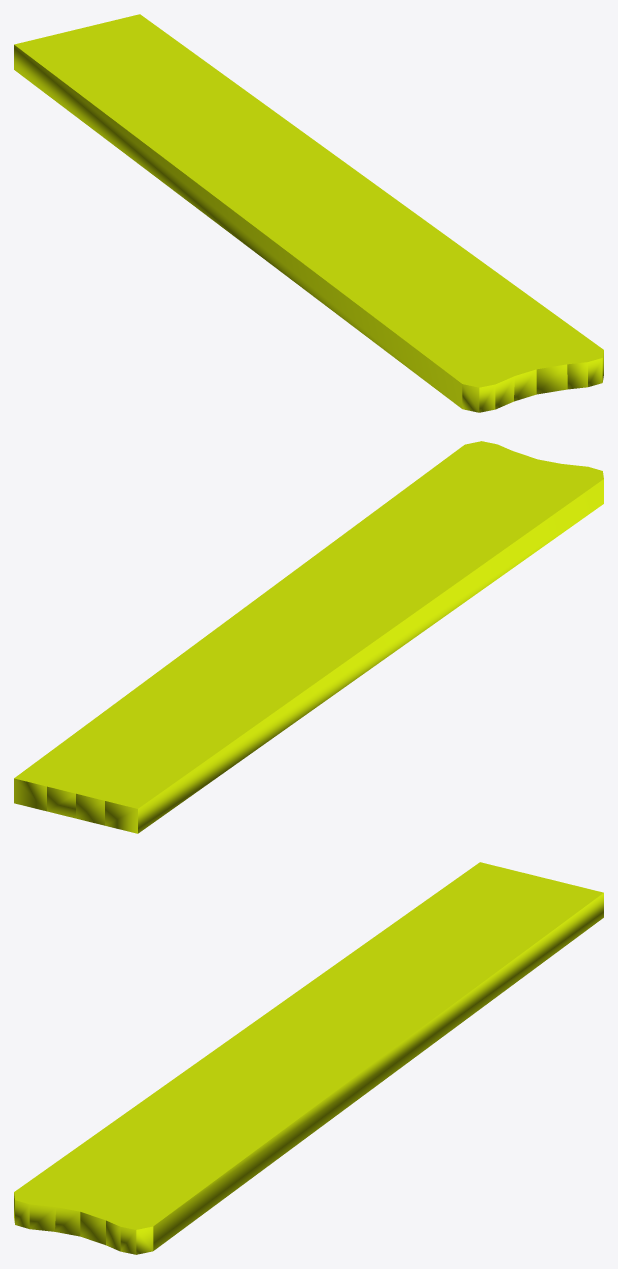
File: Inlane_A.fbx
3 views of the same model, one above another, from view 1: azimuth 30°, elevation 25°; view 2: azimuth 150°, elevation 25°; view 3: azimuth 330°, elevation 25° (orthographic).
Visible parts, largest first — view 1: Inlane_A; view 2: Inlane_A; view 3: Inlane_A.
Boxes of the visible parts, x1=… form: Inlane_A: x1=14, y1=14, x2=603, y2=412; Inlane_A: x1=14, y1=441, x2=603, y2=833; Inlane_A: x1=14, y1=862, x2=603, y2=1254.
Bounding box in the file's own units: 1.67 × 0.2846 × 9.6.
